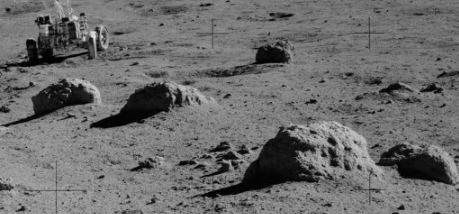rock: (244, 121, 383, 183), (119, 81, 216, 121), (380, 143, 459, 183), (31, 79, 101, 114), (255, 39, 294, 63)
